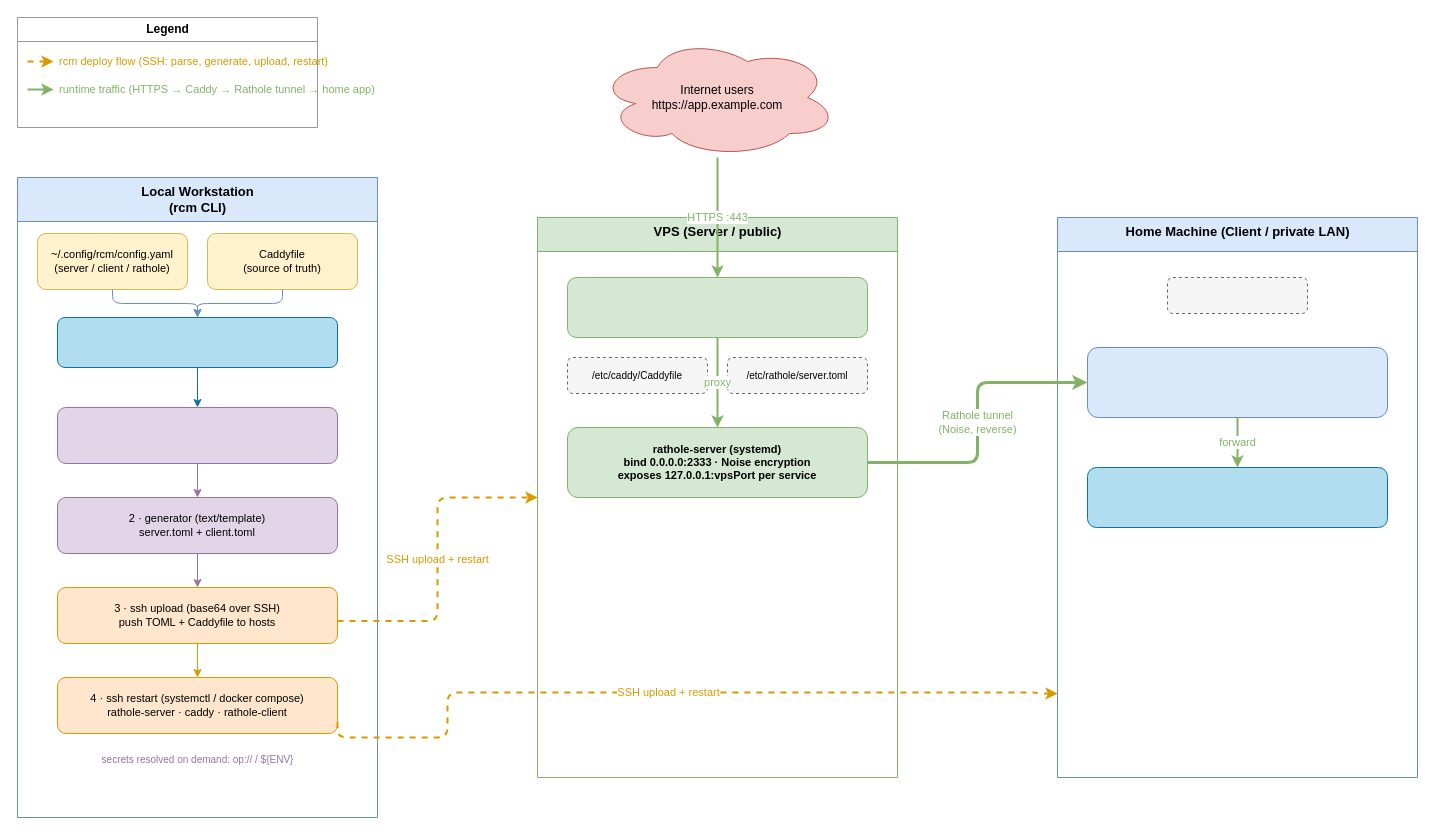
The diagram is 1435 pixels wide and 835 high, and some of its shapes have lost their labels. The centre of each missing label's shape, as x and y in pixels:
/etc/rathole/client.toml: (x=1237, y=295)
1 · parser extract services {name, localAddr, vpsPort, domains}: (x=197, y=435)
Caddy (docker compose) :80 / :443 · TLS, routes domain → 127.0.0.1:vpsPort: (x=717, y=307)
Local apps on the LAN 192.168.x.x:3000 · :8080 · …: (x=1237, y=497)
rathole-client (systemd) dials VPS :2333 · maps each vpsPort ↔ local_addr: (x=1237, y=382)
rcm (cobra + fang) list · sync · pull · restart · status: (x=197, y=342)
